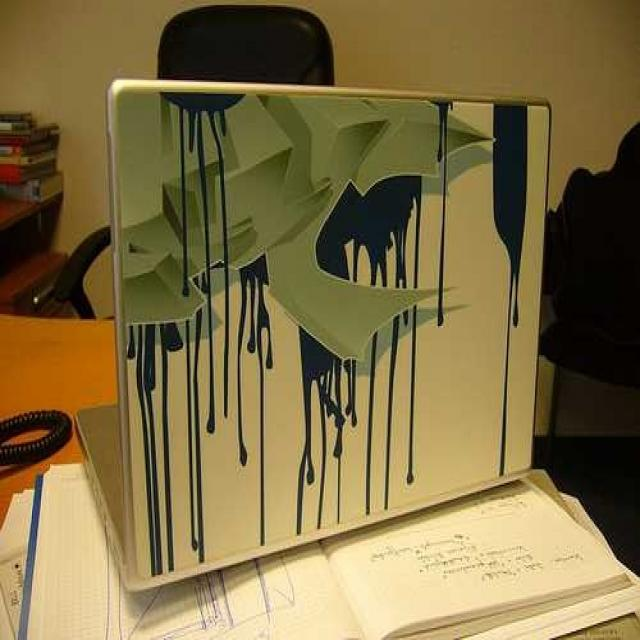laptop: (66, 65, 555, 608)
